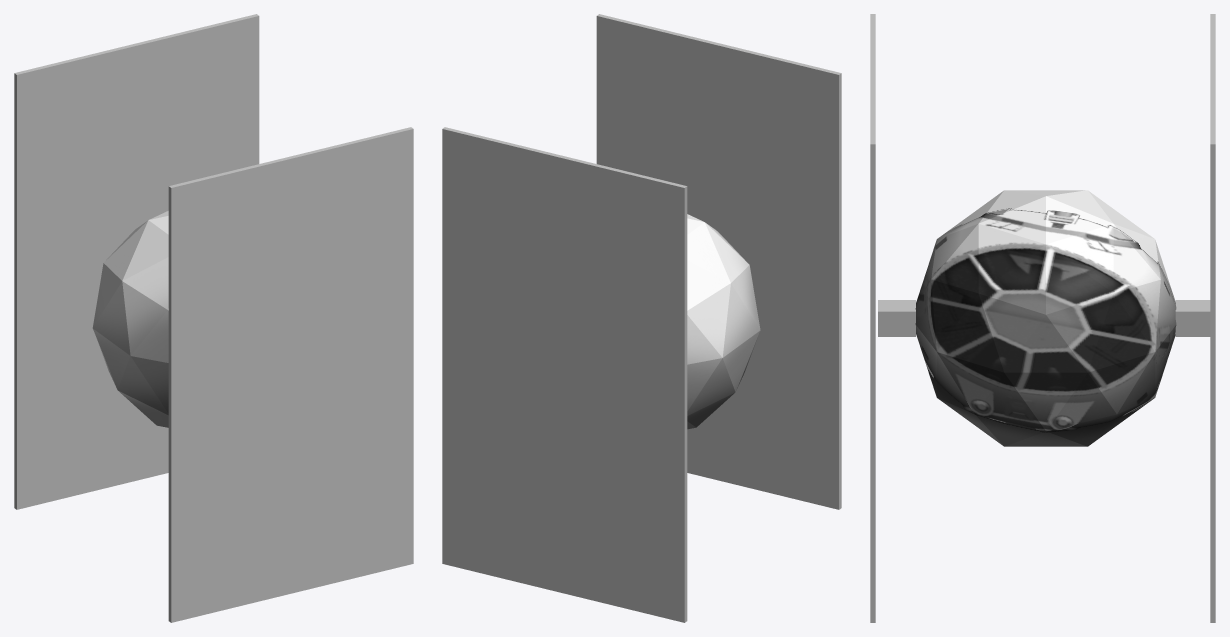
File: tie1.obj
The picture shows the model from 3 angles, left to right: view 1: azimuth 30°, elevation 25°; view 2: azimuth 150°, elevation 25°; view 3: azimuth 270°, elevation 25°; orthographic projection. The views are drawn at different scales.
Visible parts, largest first — view 1: Cube.001_Cube.002, Cube.002_Cube.003, Icosphere; view 2: Cube.002_Cube.003, Cube.001_Cube.002, Icosphere; view 3: Icosphere, Cube.001_Cube.002, Cube.002_Cube.003, Cube_Cube.001, Cube.003_Cube.004.
Part boxes in pixels (x1=…): Cube.001_Cube.002: x1=168, y1=127, x2=413, y2=622; Cube.002_Cube.003: x1=14, y1=14, x2=259, y2=509; Icosphere: x1=92, y1=211, x2=168, y2=427; Cube.002_Cube.003: x1=442, y1=127, x2=687, y2=622; Cube.001_Cube.002: x1=596, y1=14, x2=841, y2=509; Icosphere: x1=687, y1=214, x2=760, y2=429; Icosphere: x1=915, y1=190, x2=1176, y2=446; Cube.001_Cube.002: x1=870, y1=14, x2=875, y2=622; Cube.002_Cube.003: x1=1210, y1=14, x2=1215, y2=622; Cube_Cube.001: x1=878, y1=300, x2=915, y2=336; Cube.003_Cube.004: x1=1175, y1=300, x2=1210, y2=336.
Bounding box in the file's own units: 4.73 × 8.11 × 5.3.
